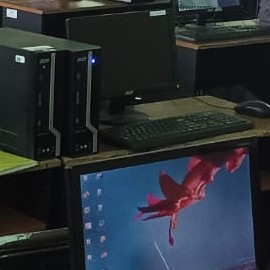monitor: (68, 142, 262, 266), (172, 0, 257, 24)
